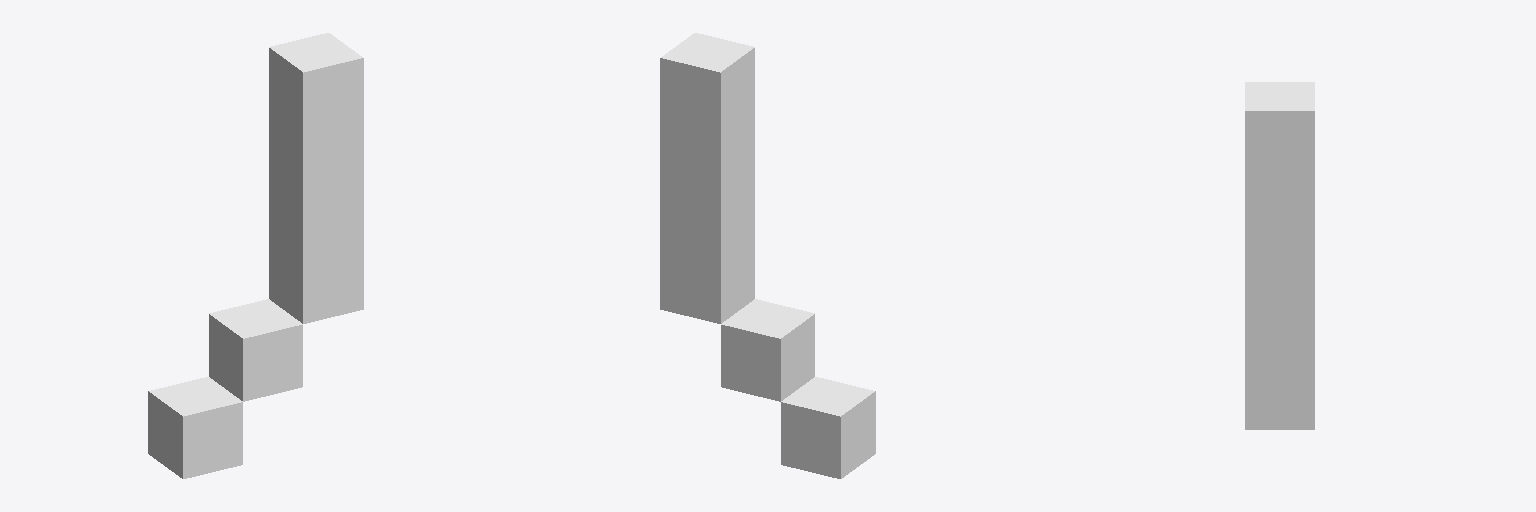
The model's file is orc-28-left_hand_raised.obj.
The picture shows the model from 3 angles: view 1: azimuth 30°, elevation 25°; view 2: azimuth 150°, elevation 25°; view 3: azimuth 270°, elevation 25°; orthographic projection.
Parts seen in each view (by area): view 1: left_hand_raised; view 2: left_hand_raised; view 3: left_hand_raised.
Boxes of the visible parts, <box> form: left_hand_raised: <box>148,33,363,478</box>; left_hand_raised: <box>660,33,875,478</box>; left_hand_raised: <box>1245,82,1314,429</box>.
Size of the model in its own units: 0.3 by 0.6 by 0.1.